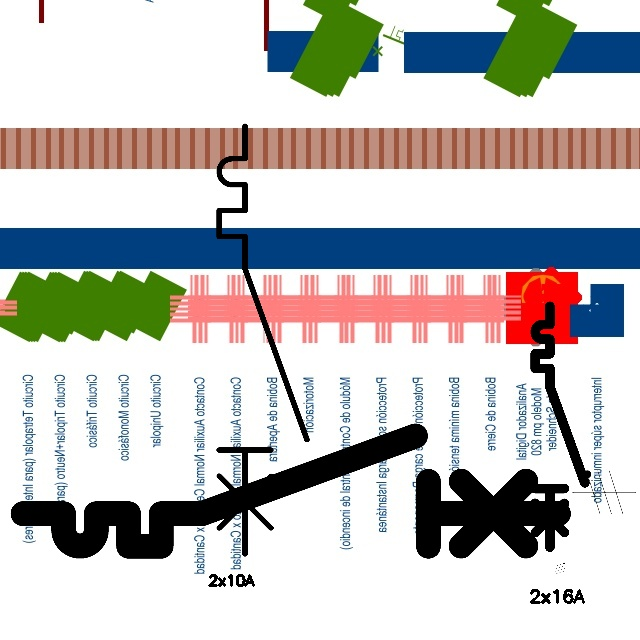interruptor_termomagnetico: (9, 422, 572, 560), (208, 115, 318, 565), (529, 300, 591, 553)
